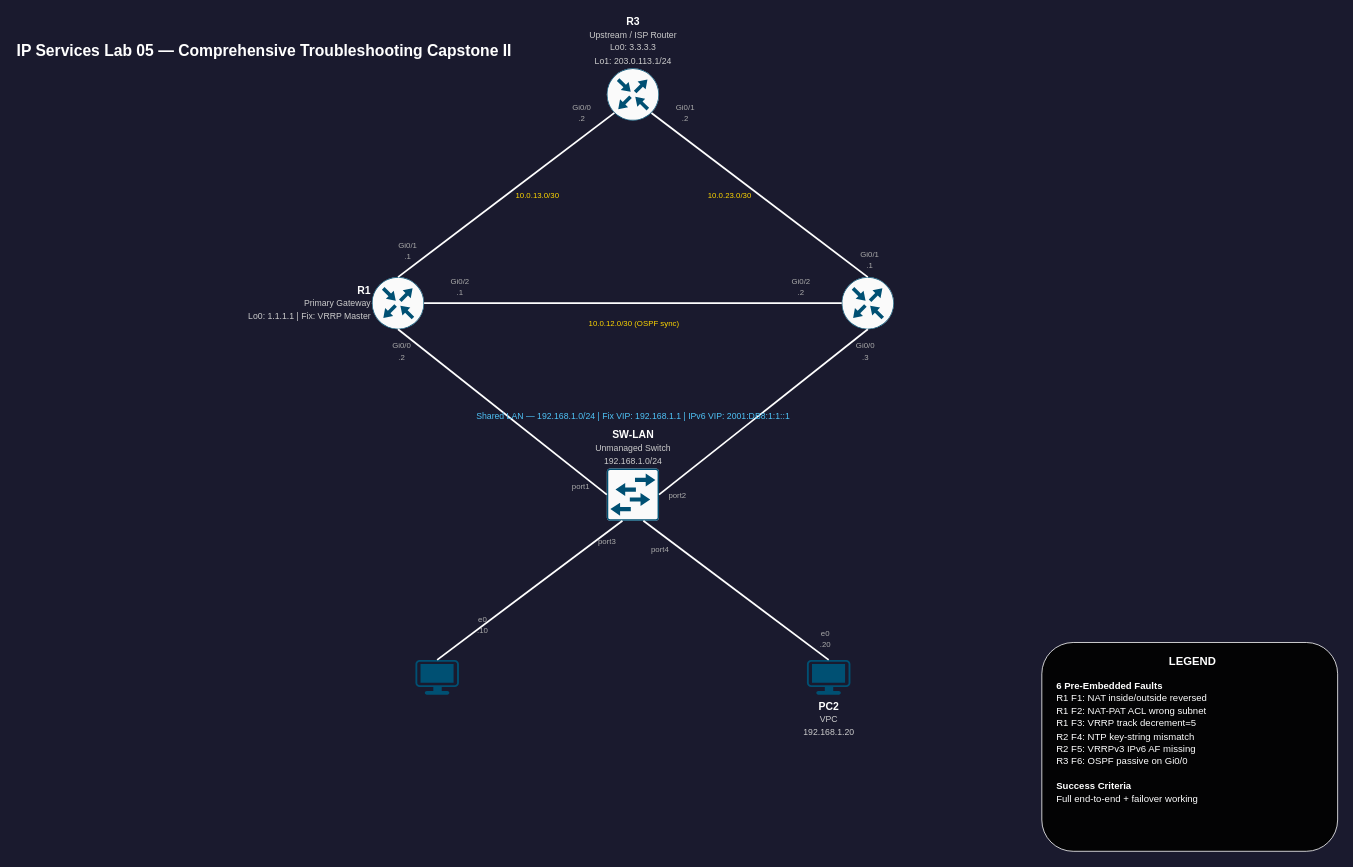
Image size: 1353x867. Some labels were removed from this diagram. The box of each missing label's shape, as (x1, y1, x2, y2) in pixels:
PC1 VPC 192.168.1.10: (415, 659, 458, 694)
R2 Secondary Gateway Lo0: 2.2.2.2 | Fix: VRRP Backup: (841, 276, 894, 329)
